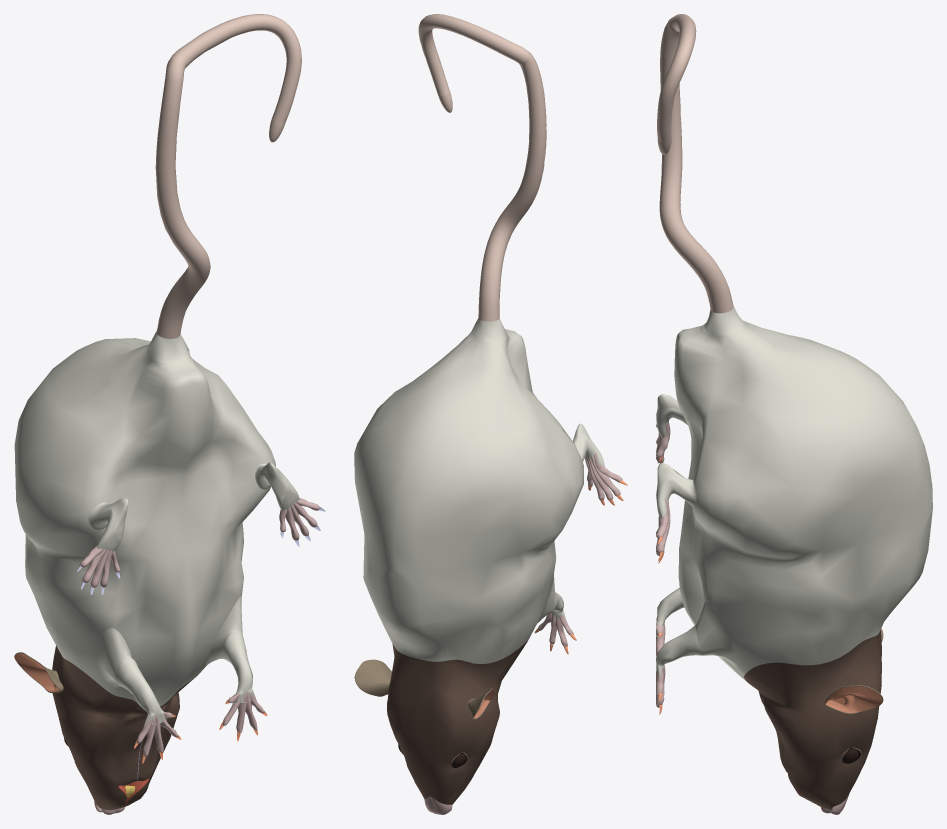
The model's file is fischer-344-rat-model.glb.
3 views of the same model, side by side, from view 1: azimuth 30°, elevation 25°; view 2: azimuth 150°, elevation 25°; view 3: azimuth 270°, elevation 25° (orthographic). The views are drawn at different scales.
Visible parts, largest first — view 1: Rat_Final(v6p7); view 2: Rat_Final(v6p7); view 3: Rat_Final(v6p7).
Part boxes in pixels (left/top/right/bottom): Rat_Final(v6p7): left=14, top=14, right=325, bottom=814; Rat_Final(v6p7): left=354, top=14, right=627, bottom=814; Rat_Final(v6p7): left=656, top=14, right=932, bottom=814.
Size of the model in its own units: 0.0953 by 0.3064 by 0.095.
